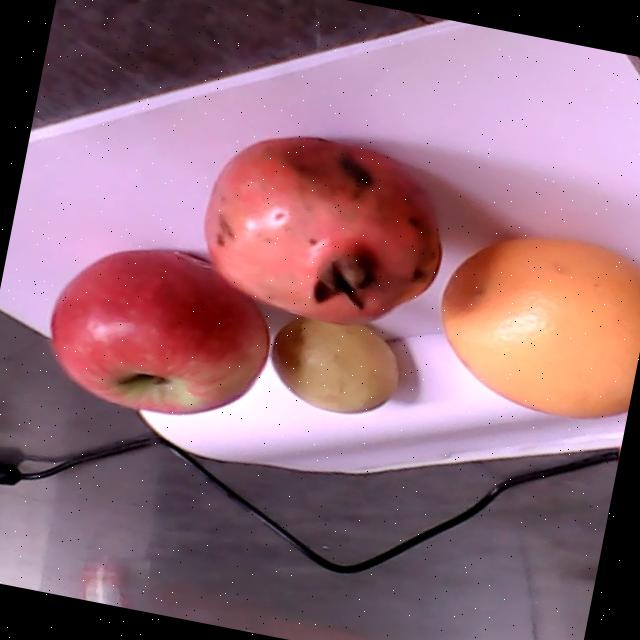apple: (52, 249, 267, 415)
lemon: (269, 316, 397, 414)
orange: (205, 136, 439, 324), (442, 235, 640, 418)
